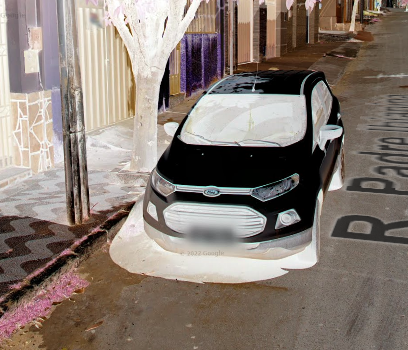car: (135, 54, 354, 281)
